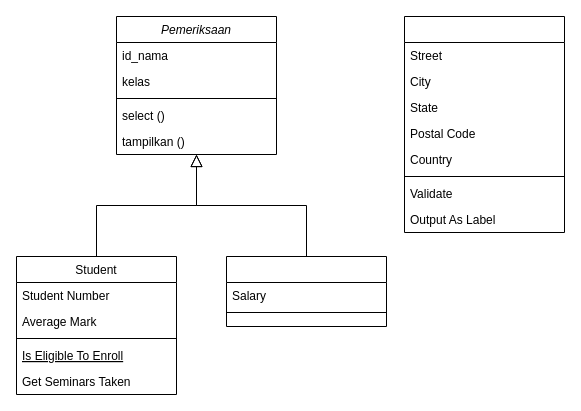
Some shapes in this 581 by 411 pixel diagram are drawn without their labels. The shapes that lost their labels are listed below. From the top down, each one's box as (x1, y1, x2, y2) in pixels, then its label:
(404, 16, 564, 232): Daftar_
(226, 256, 386, 326): Professor
